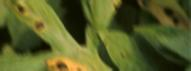Tomato leaf bacterial spot: (0, 0, 120, 71)
